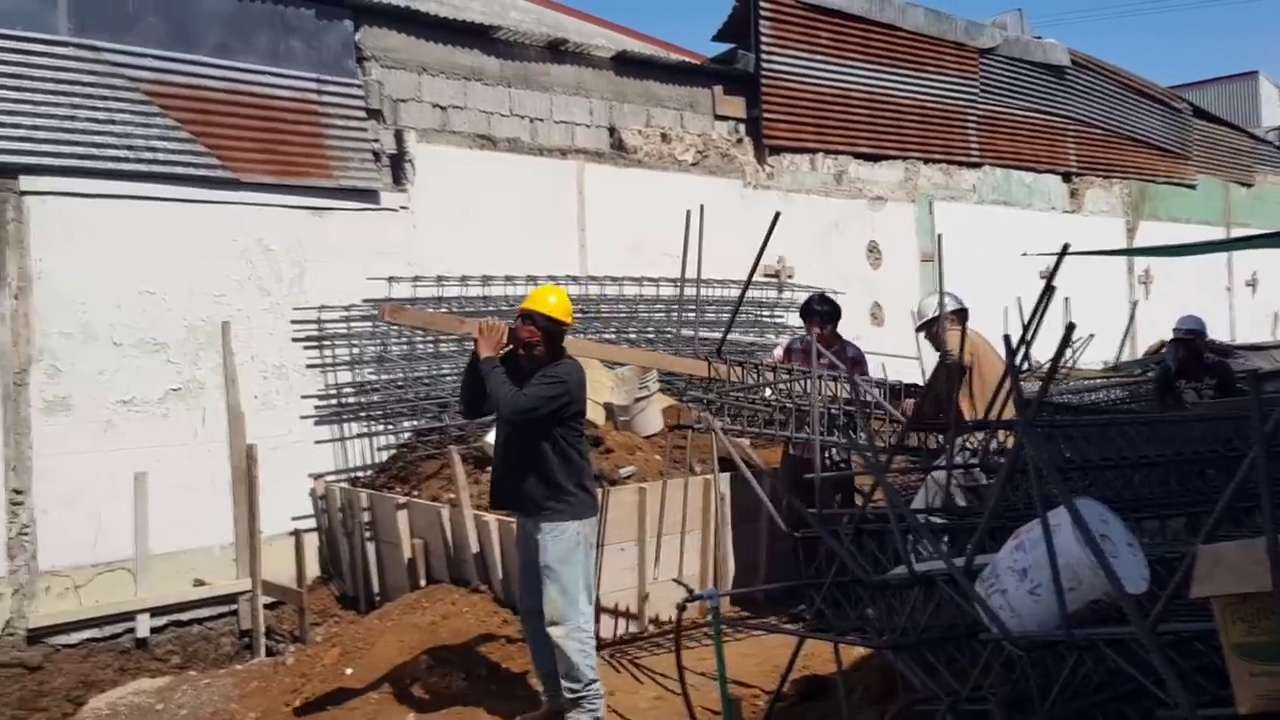helmet: (507, 283, 579, 329), (910, 288, 972, 337), (1172, 315, 1208, 337)
helmet-off: (800, 293, 850, 357)
helmet-on: (501, 272, 583, 365), (909, 287, 973, 360), (1170, 314, 1209, 355)
person: (473, 258, 606, 718), (902, 288, 1032, 565), (773, 295, 880, 523), (1155, 313, 1230, 412)
